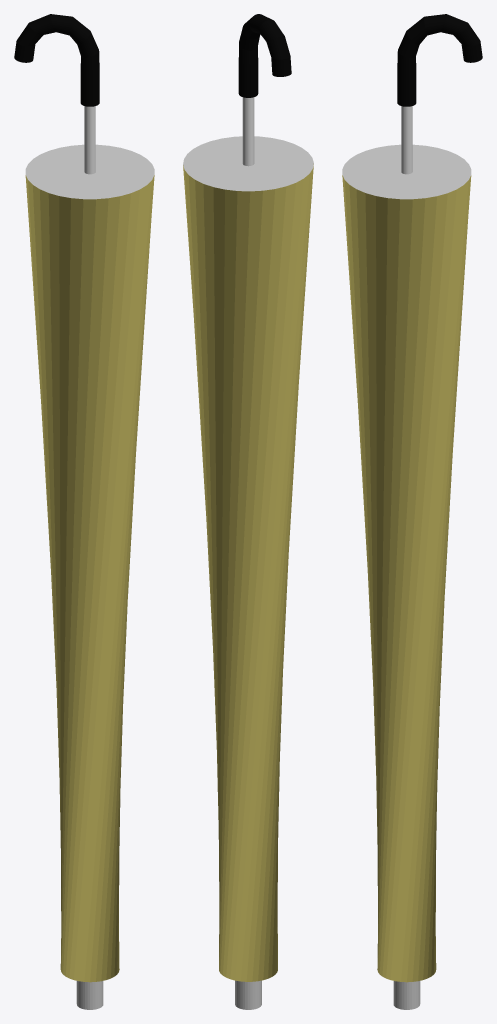
Rendered from MoveModelList.fbx.
The picture shows the model from 3 angles, left to right: view 1: azimuth 90°, elevation 25°; view 2: azimuth 210°, elevation 25°; view 3: azimuth 270°, elevation 25°; orthographic projection.
Parts seen in each view (by area): view 1: 円柱.003; view 2: 円柱.003; view 3: 円柱.003.
Boxes of the visible parts, <box> form: 円柱.003: <box>14,14,154,1009</box>; 円柱.003: <box>183,14,313,1009</box>; 円柱.003: <box>342,14,482,1009</box>.
Size of the model in its own units: 0.8255 by 6.98 by 0.8975.
